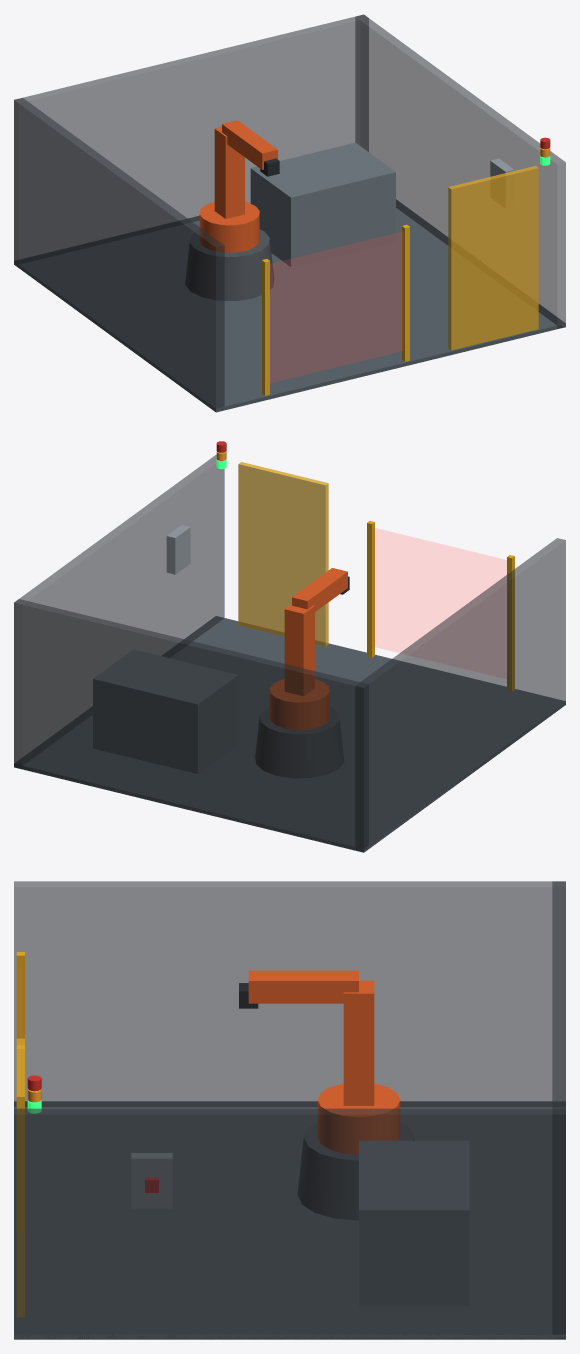
File: equipment--robotCell.glb
The picture shows the model from 3 angles, top to bottom: view 1: azimuth 30°, elevation 25°; view 2: azimuth 150°, elevation 25°; view 3: azimuth 270°, elevation 25°; orthographic projection. The views are drawn at different scales.
Visible parts, largest first — view 1: robotCell:shell, lightCurtain, gate, base, upperArm, foreArm, disconnect; view 2: robotCell:shell, gate, lightCurtain, upperArm, base, foreArm, disconnect; view 3: robotCell:shell, base, upperArm, foreArm, disconnect, gate, lightCurtain.
Part boxes in pixels (x1,y1,x2,y2): robotCell:shell: (14,14,565,412); lightCurtain: (262,224,409,395); gate: (448,166,538,350); base: (199,201,259,252); upperArm: (214,127,244,218); foreArm: (222,120,277,169); disconnect: (490,158,514,207); robotCell:shell: (14,455,565,852); gate: (238,462,328,646); lightCurtain: (367,521,514,691); upperArm: (284,604,314,696); base: (269,679,329,729); foreArm: (292,568,347,611); disconnect: (166,525,190,574); robotCell:shell: (14,881,565,1339); base: (317,1083,400,1154); upperArm: (343,980,374,1105); foreArm: (248,970,358,1003); disconnect: (131,1153,172,1208); gate: (16,1038,24,1316); lightCurtain: (16,952,24,1108).
Size of the model in its own units: 4 by 2.02 by 4.
